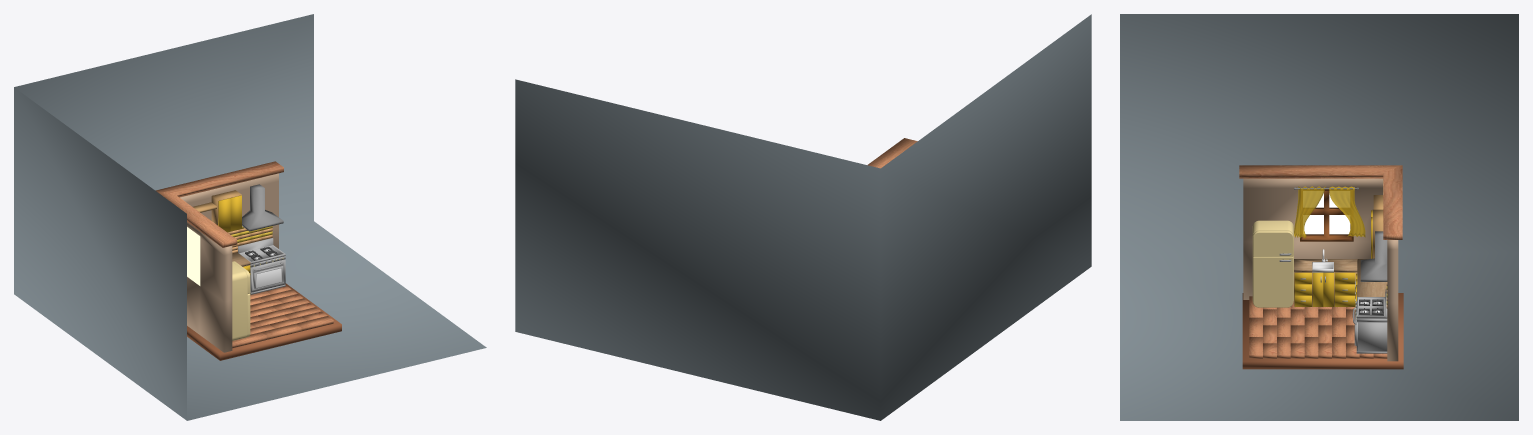
The model's file is kitchen.glb.
3 renders of one model, left to right at view 1: azimuth 30°, elevation 25°; view 2: azimuth 150°, elevation 25°; view 3: azimuth 270°, elevation 25°, orthographic. The views are drawn at different scales.
Parts seen in each view (by area): view 1: Plane.034, Cube, Cube.003, Cube.002, Cube.001, Cube.032, Cube.018, Plane.015, Plane.035, Cube.019, Cube.023; view 2: Plane.034, Cube.002; view 3: Plane.034, Cube, Cube.003, Cube.002, Cube.001, Cube.004, Cube.005, Cube.018, Plane.032, Plane.035, Cube.007, Plane.033 (+8 smaller).
Boxes of the visible parts, x1=… form: Plane.034: x1=14, y1=14, x2=486, y2=420; Cube: x1=180, y1=173, x2=278, y2=352; Cube.003: x1=232, y1=285, x2=333, y2=348; Cube.002: x1=155, y1=161, x2=283, y2=247; Cube.001: x1=187, y1=283, x2=341, y2=360; Cube.032: x1=232, y1=262, x2=247, y2=340; Cube.018: x1=242, y1=184, x2=283, y2=231; Plane.015: x1=218, y1=195, x2=241, y2=231; Plane.035: x1=187, y1=227, x2=200, y2=285; Cube.019: x1=238, y1=238, x2=285, y2=264; Cube.023: x1=250, y1=259, x2=285, y2=292; Plane.034: x1=515, y1=14, x2=1091, y2=420; Cube.002: x1=867, y1=138, x2=917, y2=168; Plane.034: x1=1120, y1=14, x2=1518, y2=420; Cube: x1=1243, y1=178, x2=1398, y2=361; Cube.003: x1=1249, y1=296, x2=1387, y2=358; Cube.002: x1=1239, y1=165, x2=1402, y2=239; Cube.001: x1=1242, y1=293, x2=1403, y2=369; Cube.004: x1=1253, y1=256, x2=1293, y2=307; Cube.005: x1=1253, y1=230, x2=1293, y2=256; Cube.018: x1=1360, y1=231, x2=1387, y2=281; Plane.032: x1=1329, y1=186, x2=1365, y2=237; Plane.035: x1=1304, y1=193, x2=1350, y2=234; Cube.007: x1=1358, y1=322, x2=1387, y2=351; Plane.033: x1=1294, y1=186, x2=1325, y2=238.
Bounding box in the file's own units: 11.75 × 7.75 × 11.75.
30 materials, 3 textured.
